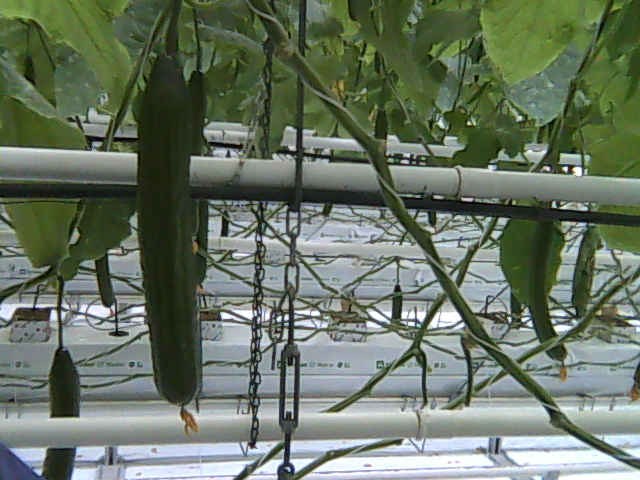concombre: (136, 43, 209, 441)
